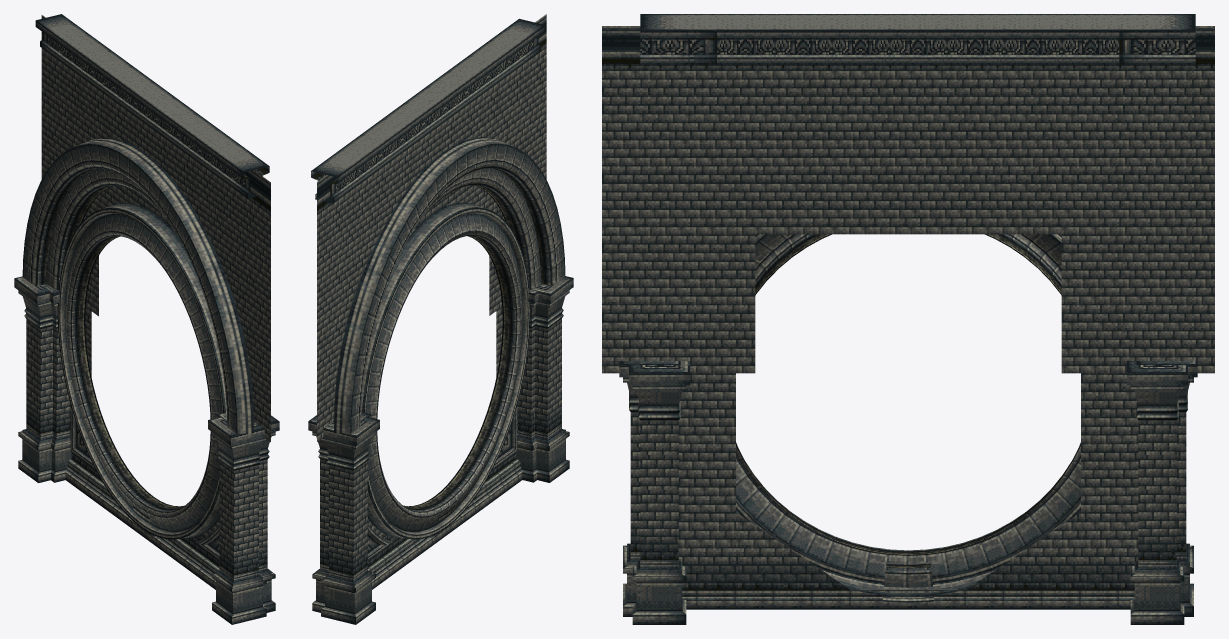
File: EnvMdrMD_Daiseidou_A_Window_Cylcle_A.FBX
3 renders of one model, left to right at view 1: azimuth 30°, elevation 25°; view 2: azimuth 150°, elevation 25°; view 3: azimuth 270°, elevation 25°, orthographic. The views are drawn at different scales.
Visible parts, largest first — view 1: EnvMdrMD_Daiseidou_A_Window_Cylcle_A; view 2: EnvMdrMD_Daiseidou_A_Window_Cylcle_A; view 3: EnvMdrMD_Daiseidou_A_Window_Cylcle_A.
Part boxes in pixels (x1,y1,x2,y2): EnvMdrMD_Daiseidou_A_Window_Cylcle_A: (14,14,279,624); EnvMdrMD_Daiseidou_A_Window_Cylcle_A: (308,14,573,624); EnvMdrMD_Daiseidou_A_Window_Cylcle_A: (602,14,1214,624).
Bounding box in the file's own units: 210 × 1705 × 1600.
1 material, 1 textured.
